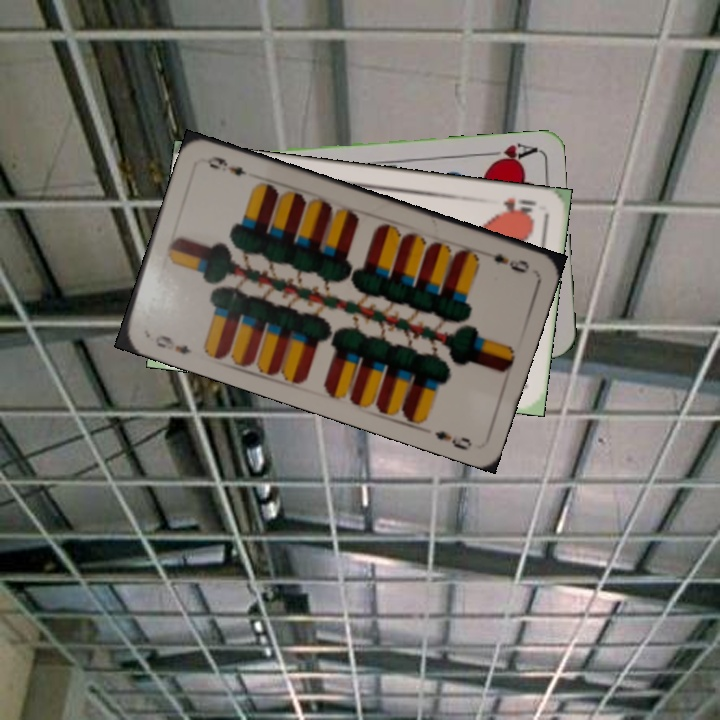E9: (489, 249, 532, 276), (151, 331, 194, 357)
HA: (479, 139, 538, 168)
HO: (495, 193, 539, 219)
